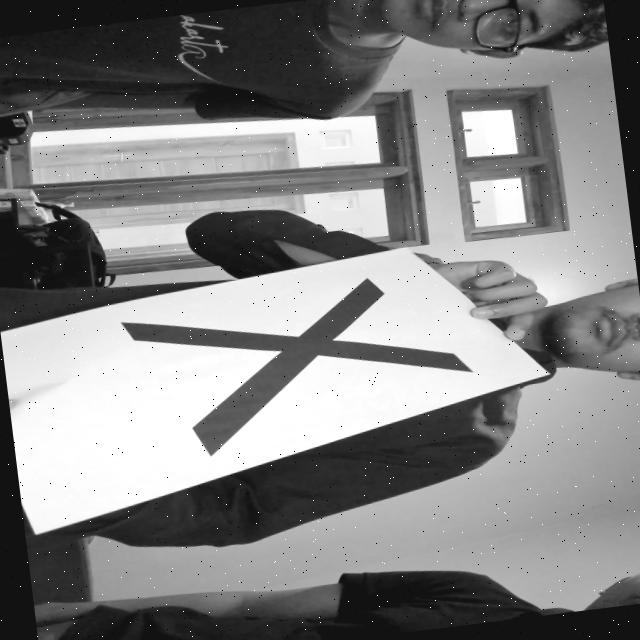x: (100, 266, 488, 477)
